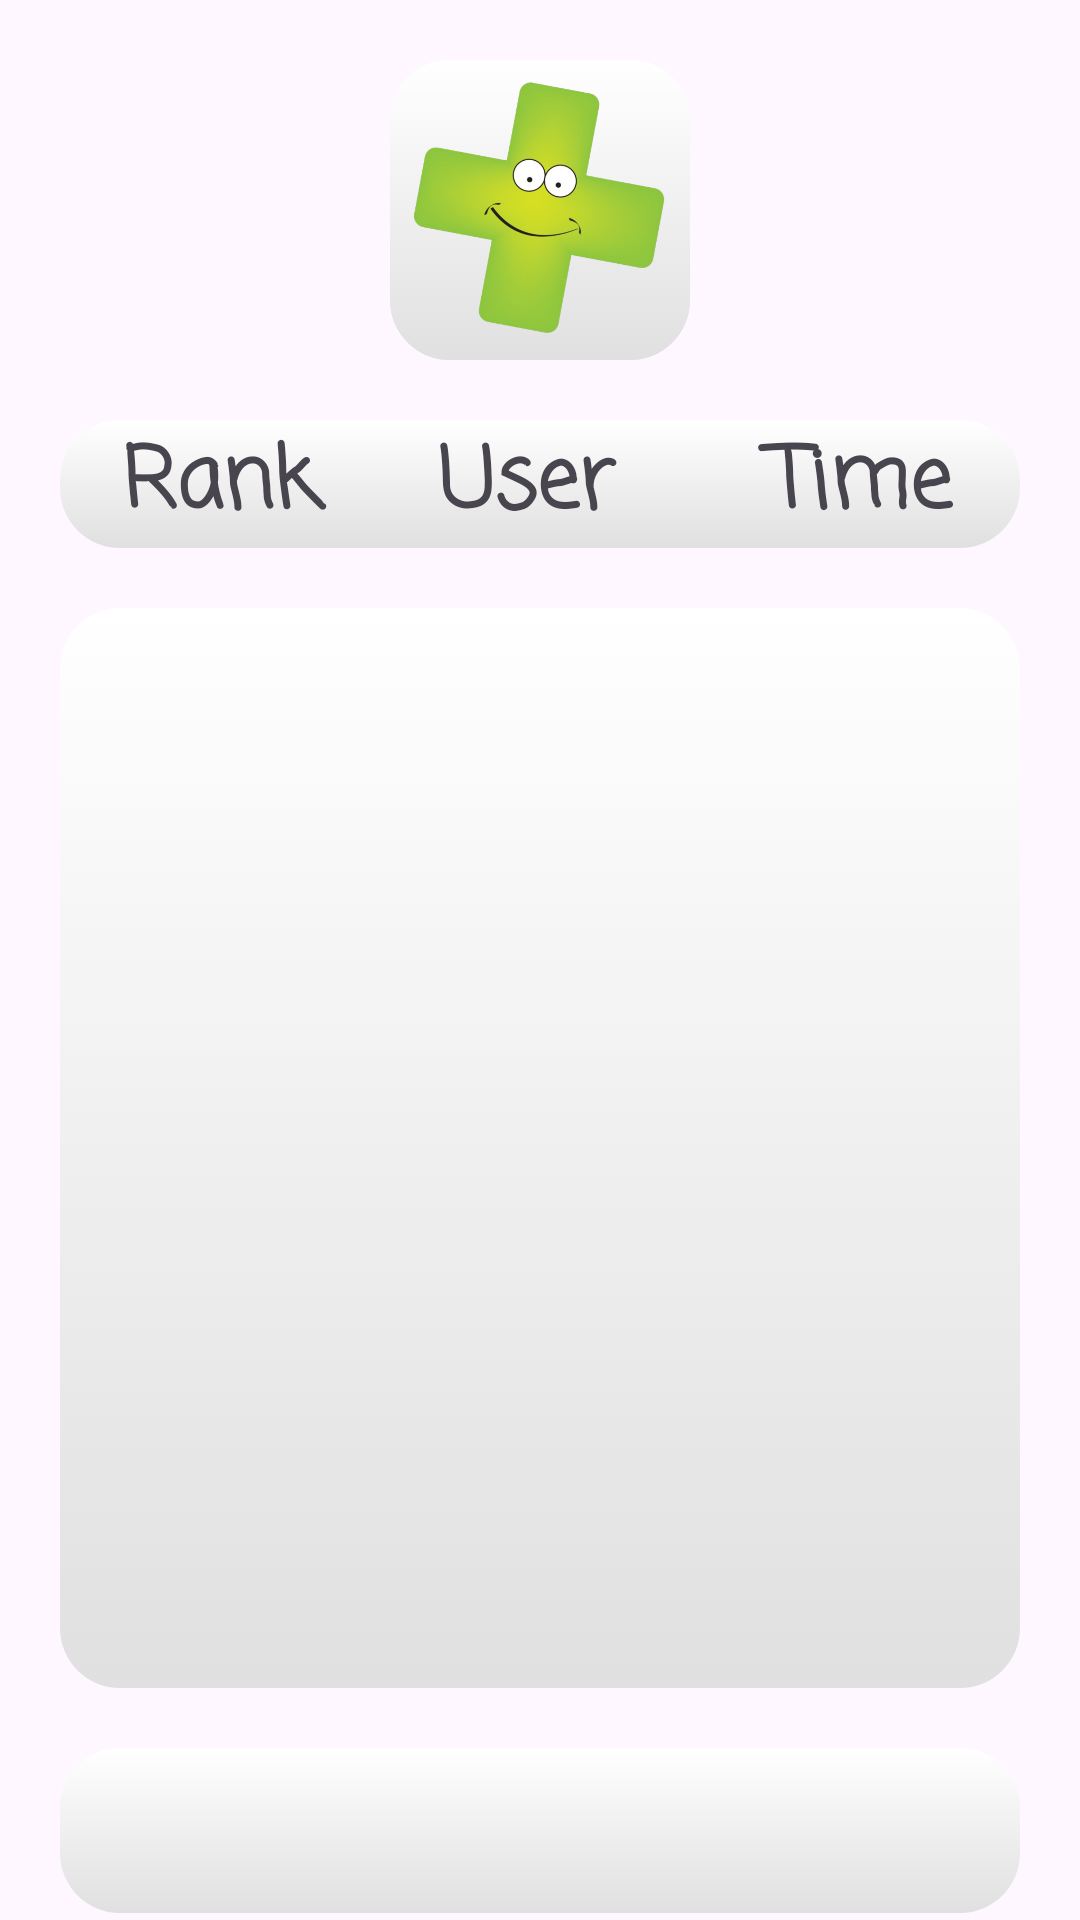

Locate icon controls on the screen. Image size 1080w x 1920h, boxes as (x1, y1, x2, y2).
addition: (390, 82, 690, 360)
